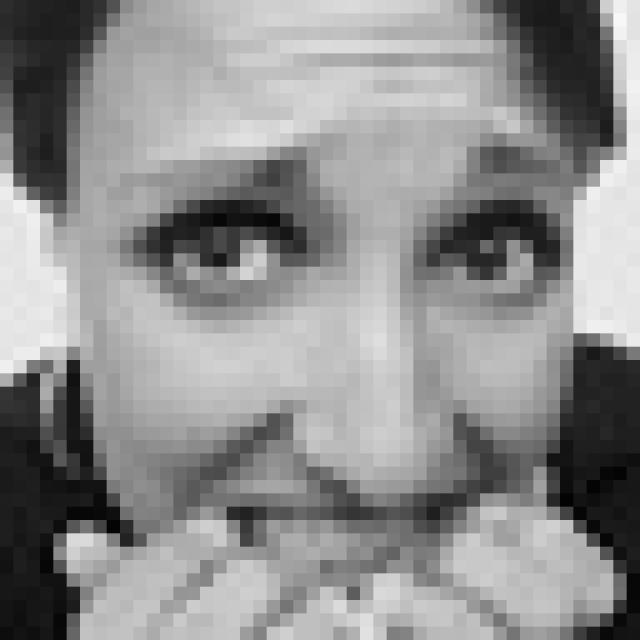fear: (134, 145, 565, 601)
